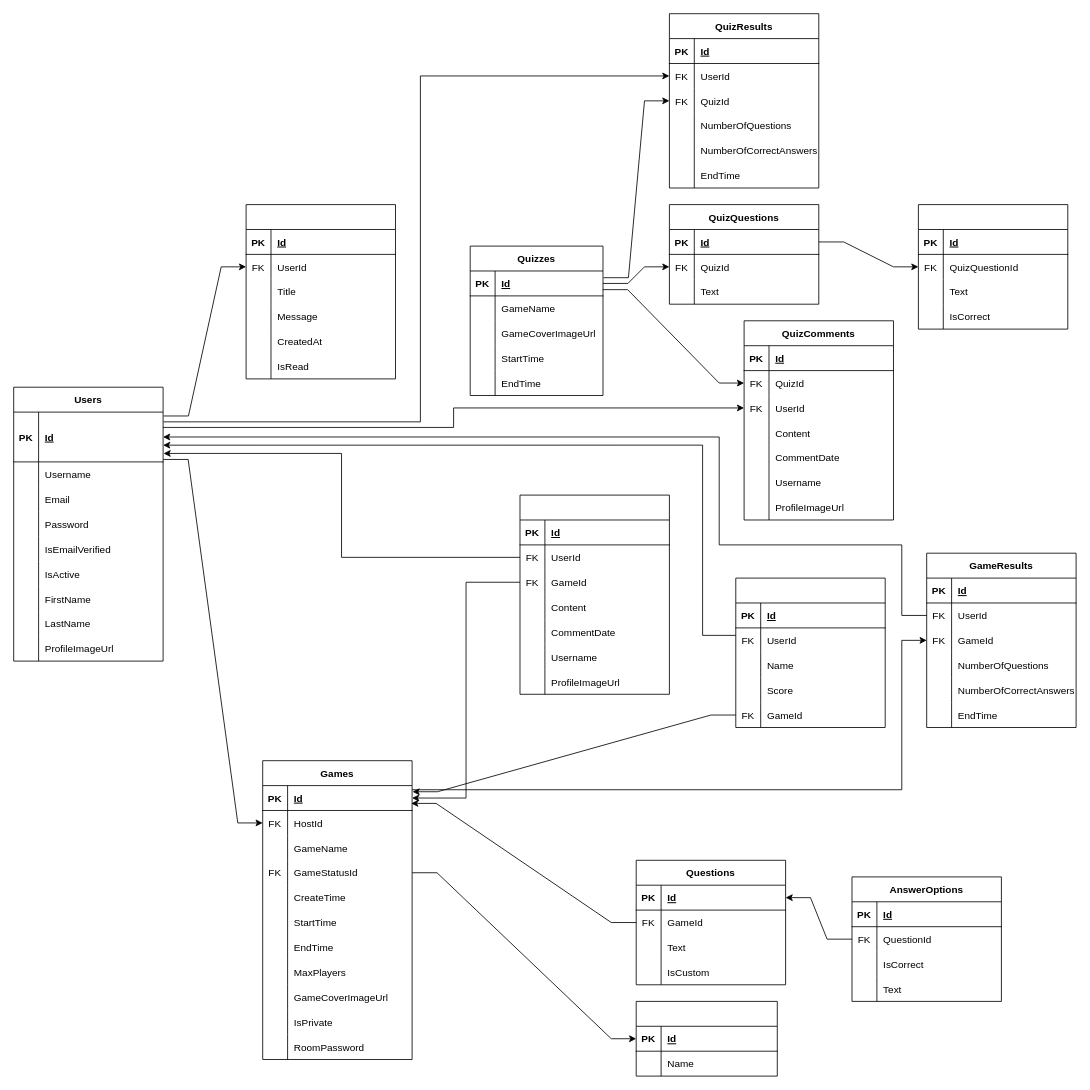
Some shapes in this 1090 by 1090 pixel diagram are drawn without their labels. The box of each missing label's shape, as (x1, y1, x2, y2) in pixels:
GameComments: (519, 494, 669, 694)
GameStatuses: (635, 1001, 777, 1076)
Notifications: (245, 204, 395, 379)
Players: (735, 577, 885, 727)
QuizAnswerOptions: (918, 204, 1068, 329)
